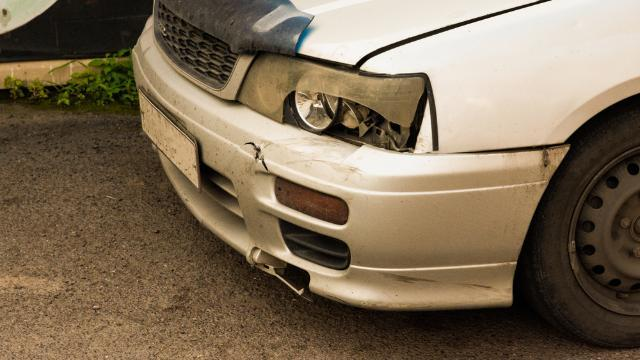crack: (243, 141, 271, 173)
lamp broken: (239, 54, 430, 154)
scratch: (381, 269, 511, 294)
